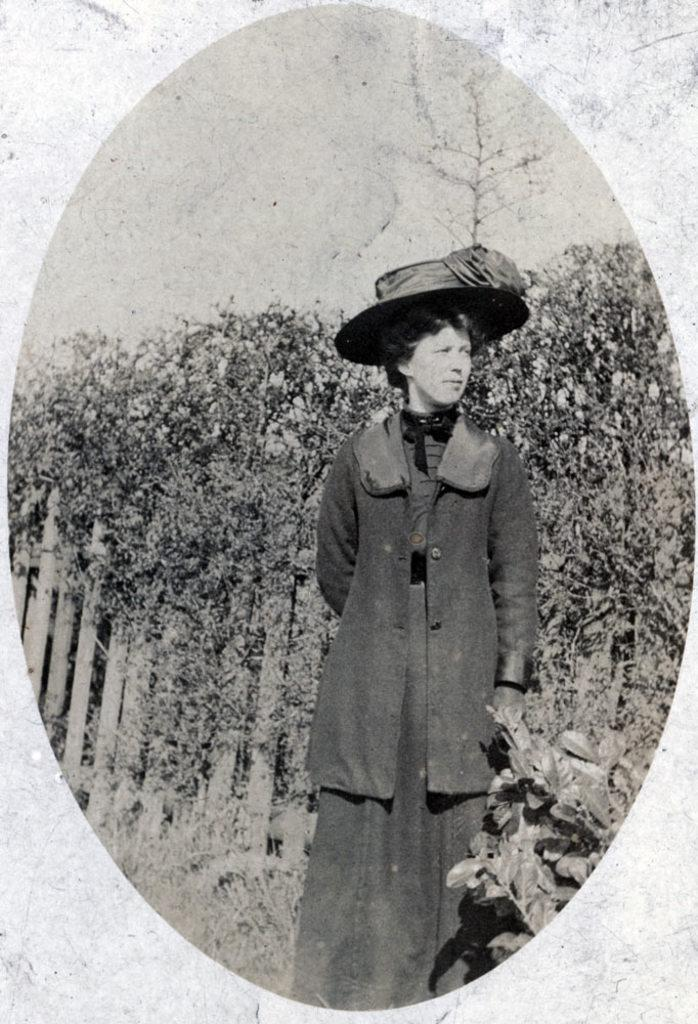Hat: (332, 240, 535, 371)
